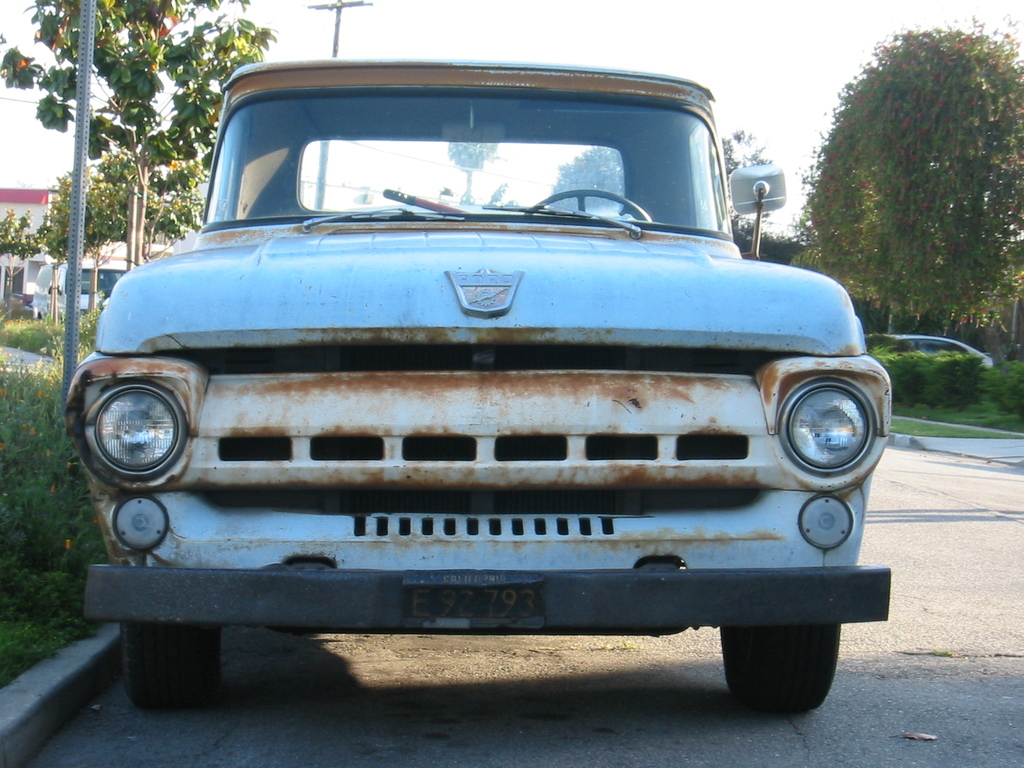Car: (69, 55, 889, 695), (897, 332, 990, 362)
